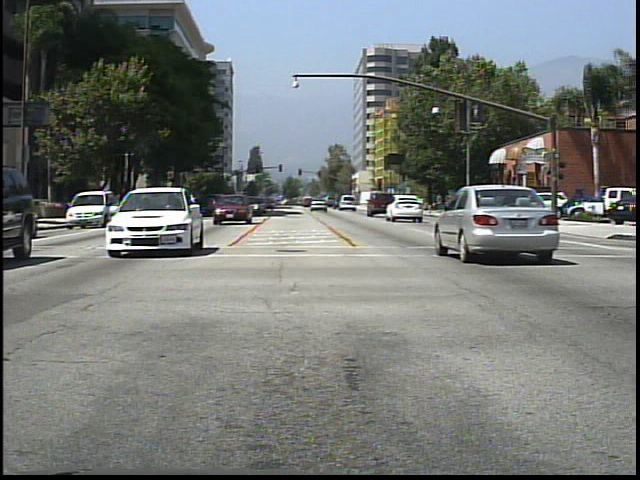person: (468, 191, 479, 221), (434, 191, 447, 214)
